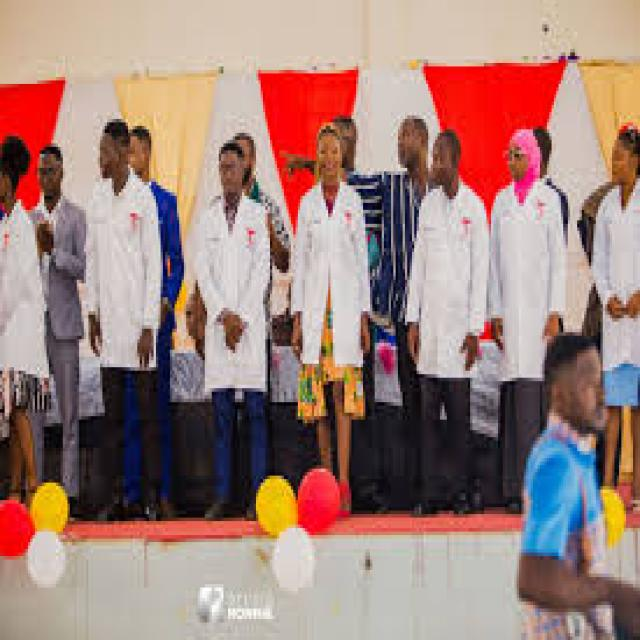person_with_labcoat: (407, 129, 486, 511), (293, 122, 370, 511), (86, 119, 161, 518), (489, 129, 563, 511), (198, 140, 270, 518), (593, 126, 638, 507)
person_without_labcoat: (517, 332, 638, 637), (347, 119, 428, 420), (130, 126, 182, 514), (30, 147, 84, 511), (0, 136, 47, 504), (237, 133, 289, 269), (126, 381, 137, 504)
